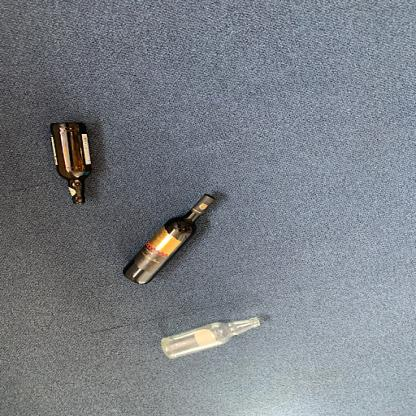trash: (123, 194, 217, 288), (158, 317, 266, 362), (47, 119, 94, 206)
